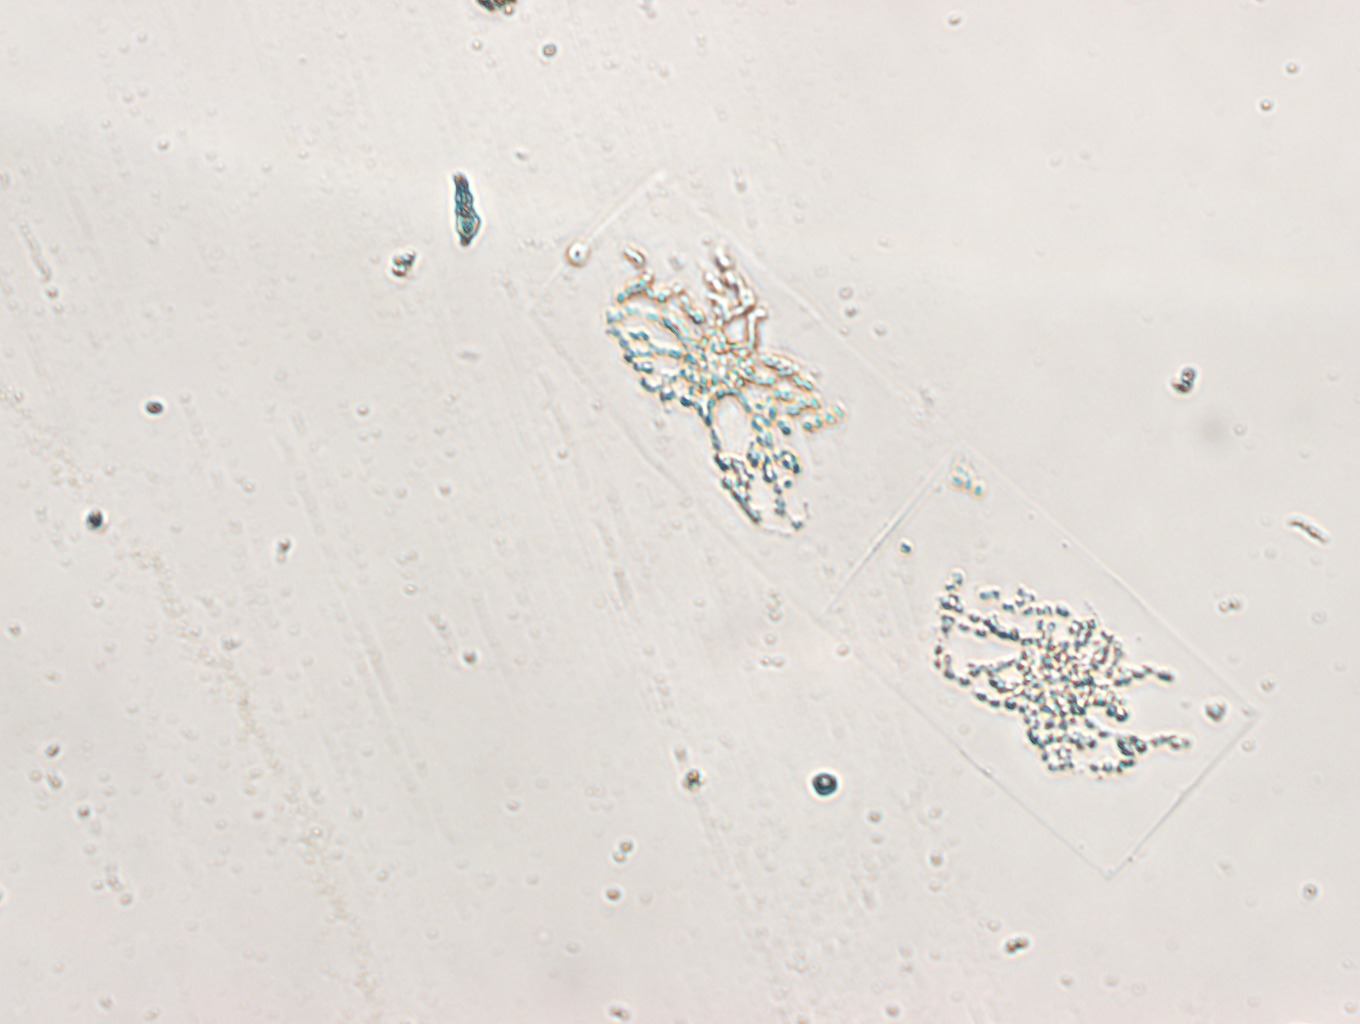helicotheca: (522, 167, 1265, 881)
